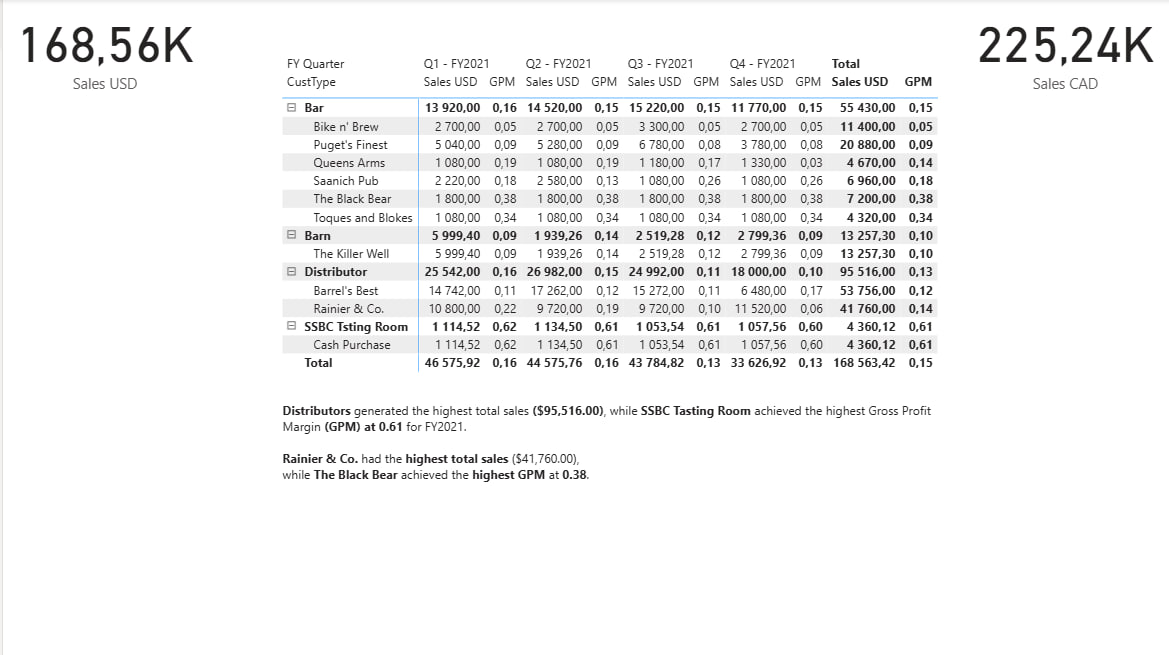

The page's visual inventory and layout, read from the dashboard file:
{"tool":"powerbi","page":{"name":"Sales and GPM","canvas":[1280,720],"ordinal":0},"visuals":[{"type":"card","fields":{"Values":["Final Fact Sales.Sales USD"]},"box":[0,0,224.3,108.6],"z":0},{"type":"card","fields":{"Values":["Final Fact Sales.Sales CAD"]},"box":[1072.9,0,207.1,108.6],"z":1000},{"type":"pivotTable","fields":{"Rows":["Customer List (as of FY2021).CustType","Customer List (as of FY2021).Customer"],"Columns":["Date Table.FY Quarter"],"Values":["Final Fact Sales.Sales USD","Final Fact Sales.GPM"]},"box":[301.9,54.9,736.9,369.1],"z":2000},{"type":"textbox","box":[0,508,187,150],"z":3000},{"type":"textbox","box":[302.5,437.5,737.5,105],"z":4000}]}

Visuals, with their boxes in screenshot pixels (x1, y1, x2, y2), scaled from the page's 1280x720 canvas onto the 1169x655 screenshot:
card - Final Fact Sales.Sales USD: (0,0,205,99)
card - Final Fact Sales.Sales CAD: (980,0,1168,99)
pivotTable - Customer List (as of FY2021).CustType x Customer List (as of FY2021).Customer: (276,50,949,386)
textbox: (0,462,171,599)
textbox: (276,398,950,494)
